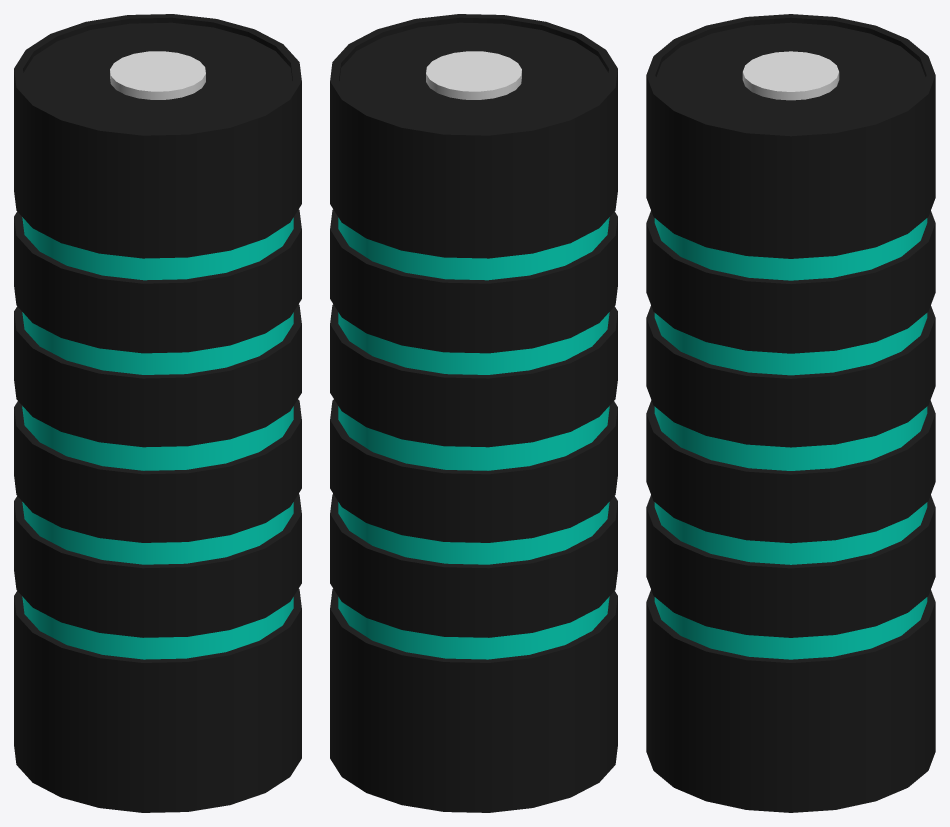
File: Battery.fbx
3 views of the same model, side by side, from view 1: azimuth 30°, elevation 25°; view 2: azimuth 150°, elevation 25°; view 3: azimuth 270°, elevation 25° (orthographic).
Visible parts, largest first — view 1: Battery; view 2: Battery; view 3: Battery.
Part boxes in pixels (<box>): Battery: <box>14,14,301,812</box>; Battery: <box>330,14,617,812</box>; Battery: <box>646,14,935,812</box>.
Size of the model in its own units: 77.47 by 202 by 77.47.
